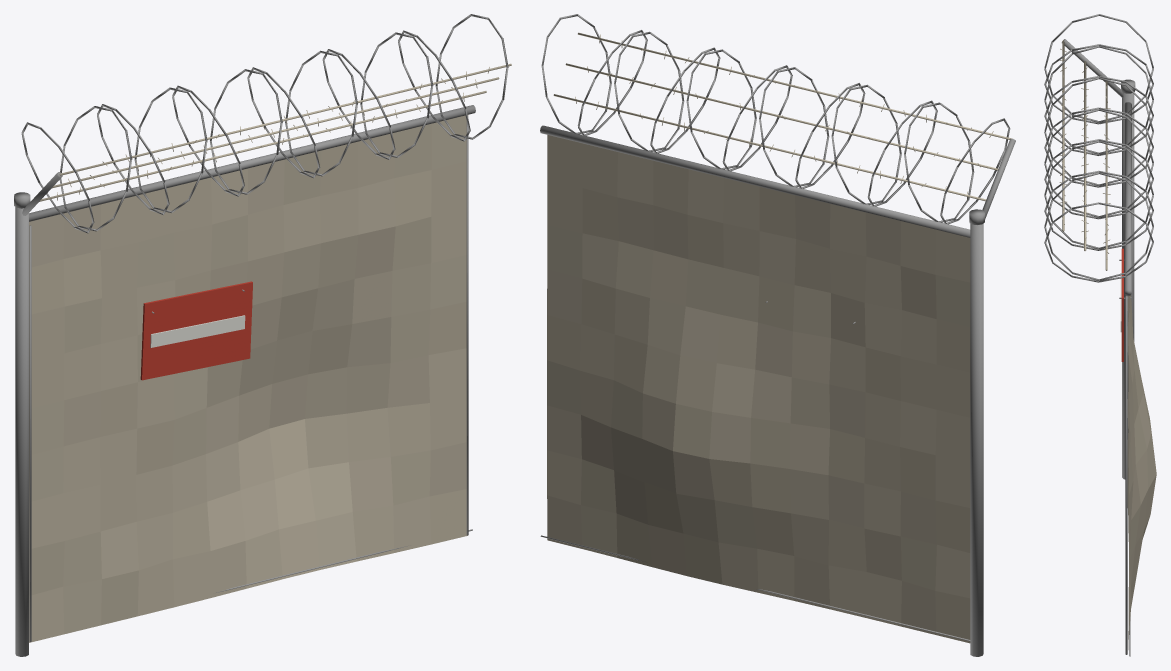
Rendered from hood_fence_chain_b.glb.
The picture shows the model from 3 angles, left to right: view 1: azimuth 30°, elevation 25°; view 2: azimuth 150°, elevation 25°; view 3: azimuth 270°, elevation 25°; orthographic projection. The views are drawn at different scales.
Parts seen in each view (by area): view 1: hood_fence_chain_b, arm.003, sign, barb.115, sign_band; view 2: hood_fence_chain_b, arm.003, barb.115; view 3: arm.003, hood_fence_chain_b, barb.115, sign.
Part boxes in pixels (box(x1,y1,x2,y2)): hood_fence_chain_b: box(29, 115, 468, 642); arm.003: box(14, 14, 508, 656); sign: box(140, 281, 252, 380); barb.115: box(39, 63, 511, 201); sign_band: box(150, 315, 245, 347); hood_fence_chain_b: box(547, 135, 970, 643); arm.003: box(540, 14, 1015, 656); barb.115: box(553, 32, 1012, 201); arm.003: box(1044, 14, 1153, 656); hood_fence_chain_b: box(1127, 295, 1156, 649); barb.115: box(1059, 40, 1110, 270); sign: box(1121, 248, 1123, 361).
Size of the model in its own units: 2.54 by 2.85 by 0.6262.
